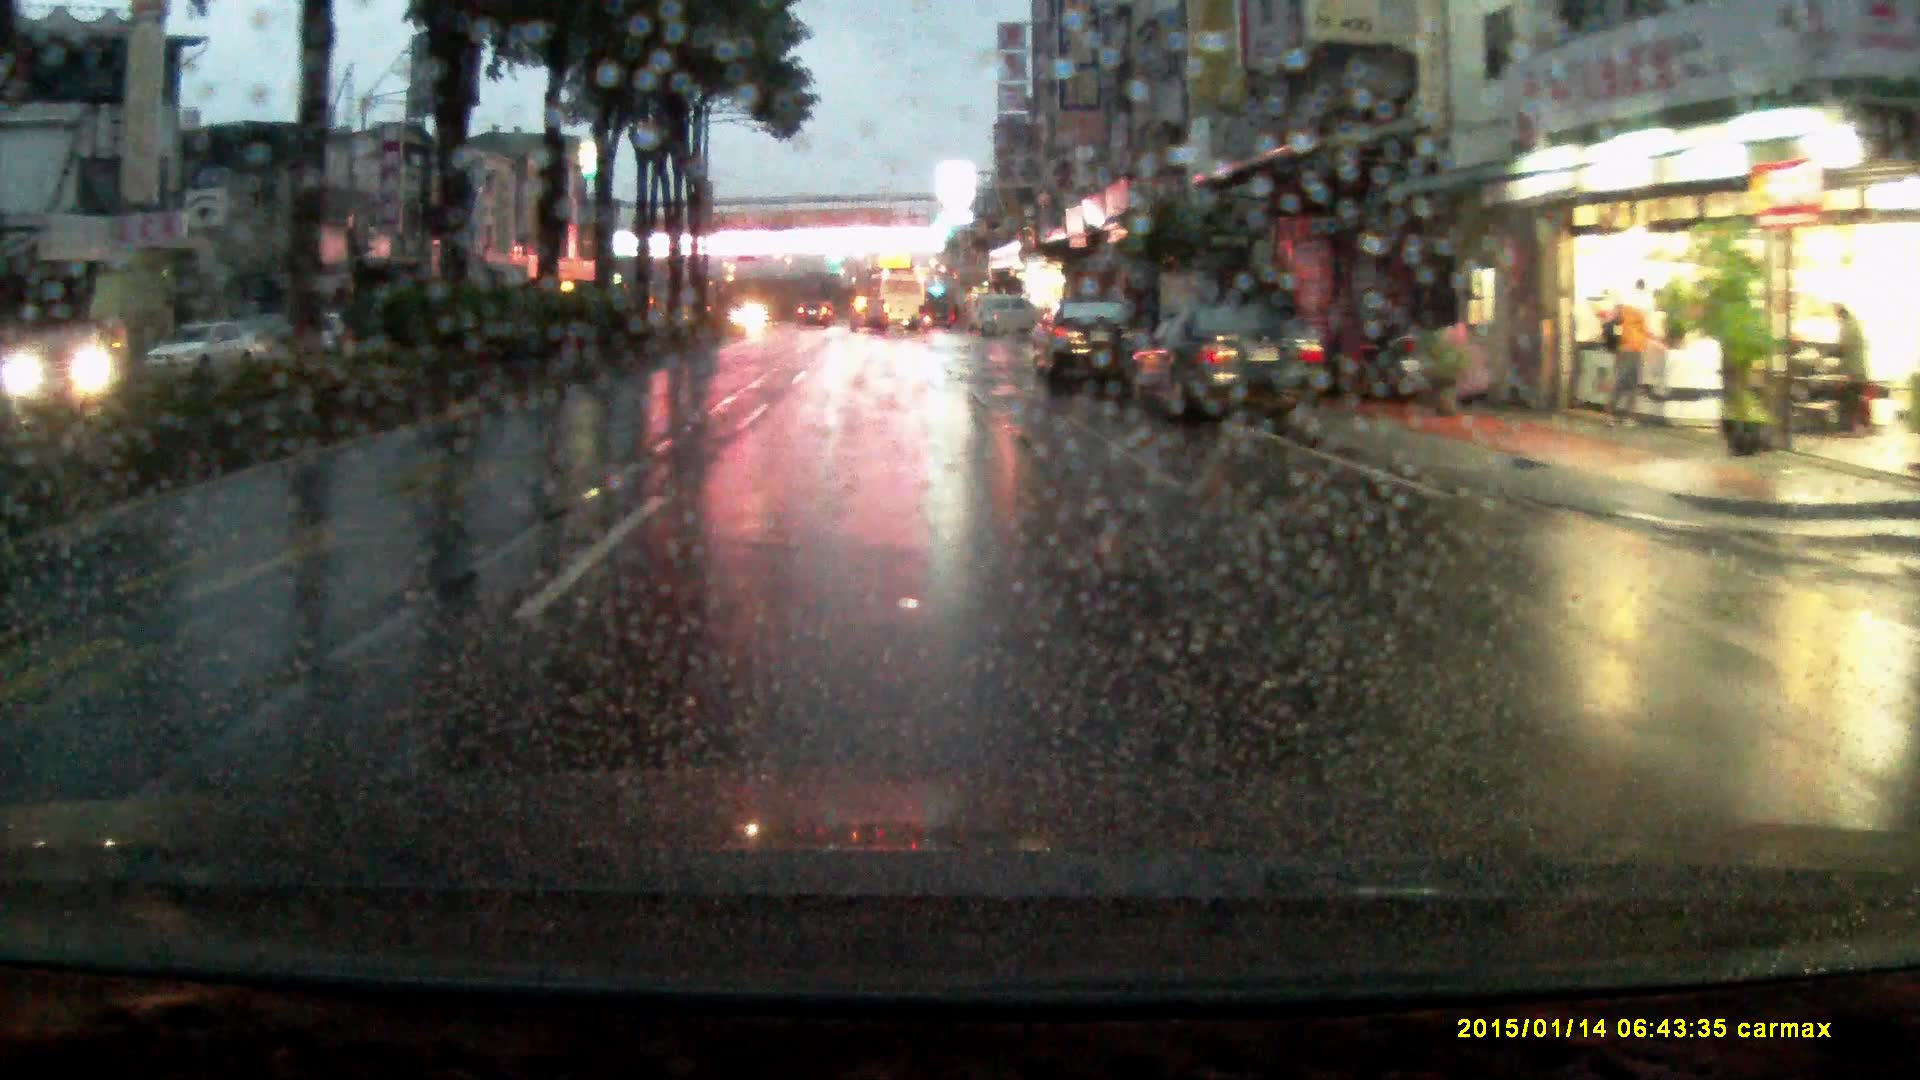vehicle: (1120, 305, 1335, 429), (1039, 299, 1153, 404), (145, 319, 264, 385), (968, 298, 1048, 344), (868, 276, 926, 335), (851, 295, 890, 334), (798, 301, 831, 328)
